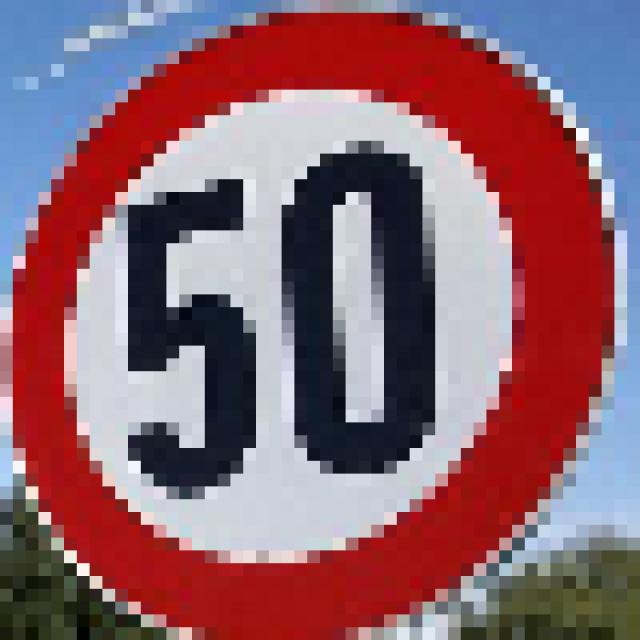Limite-50: (9, 5, 622, 640)
